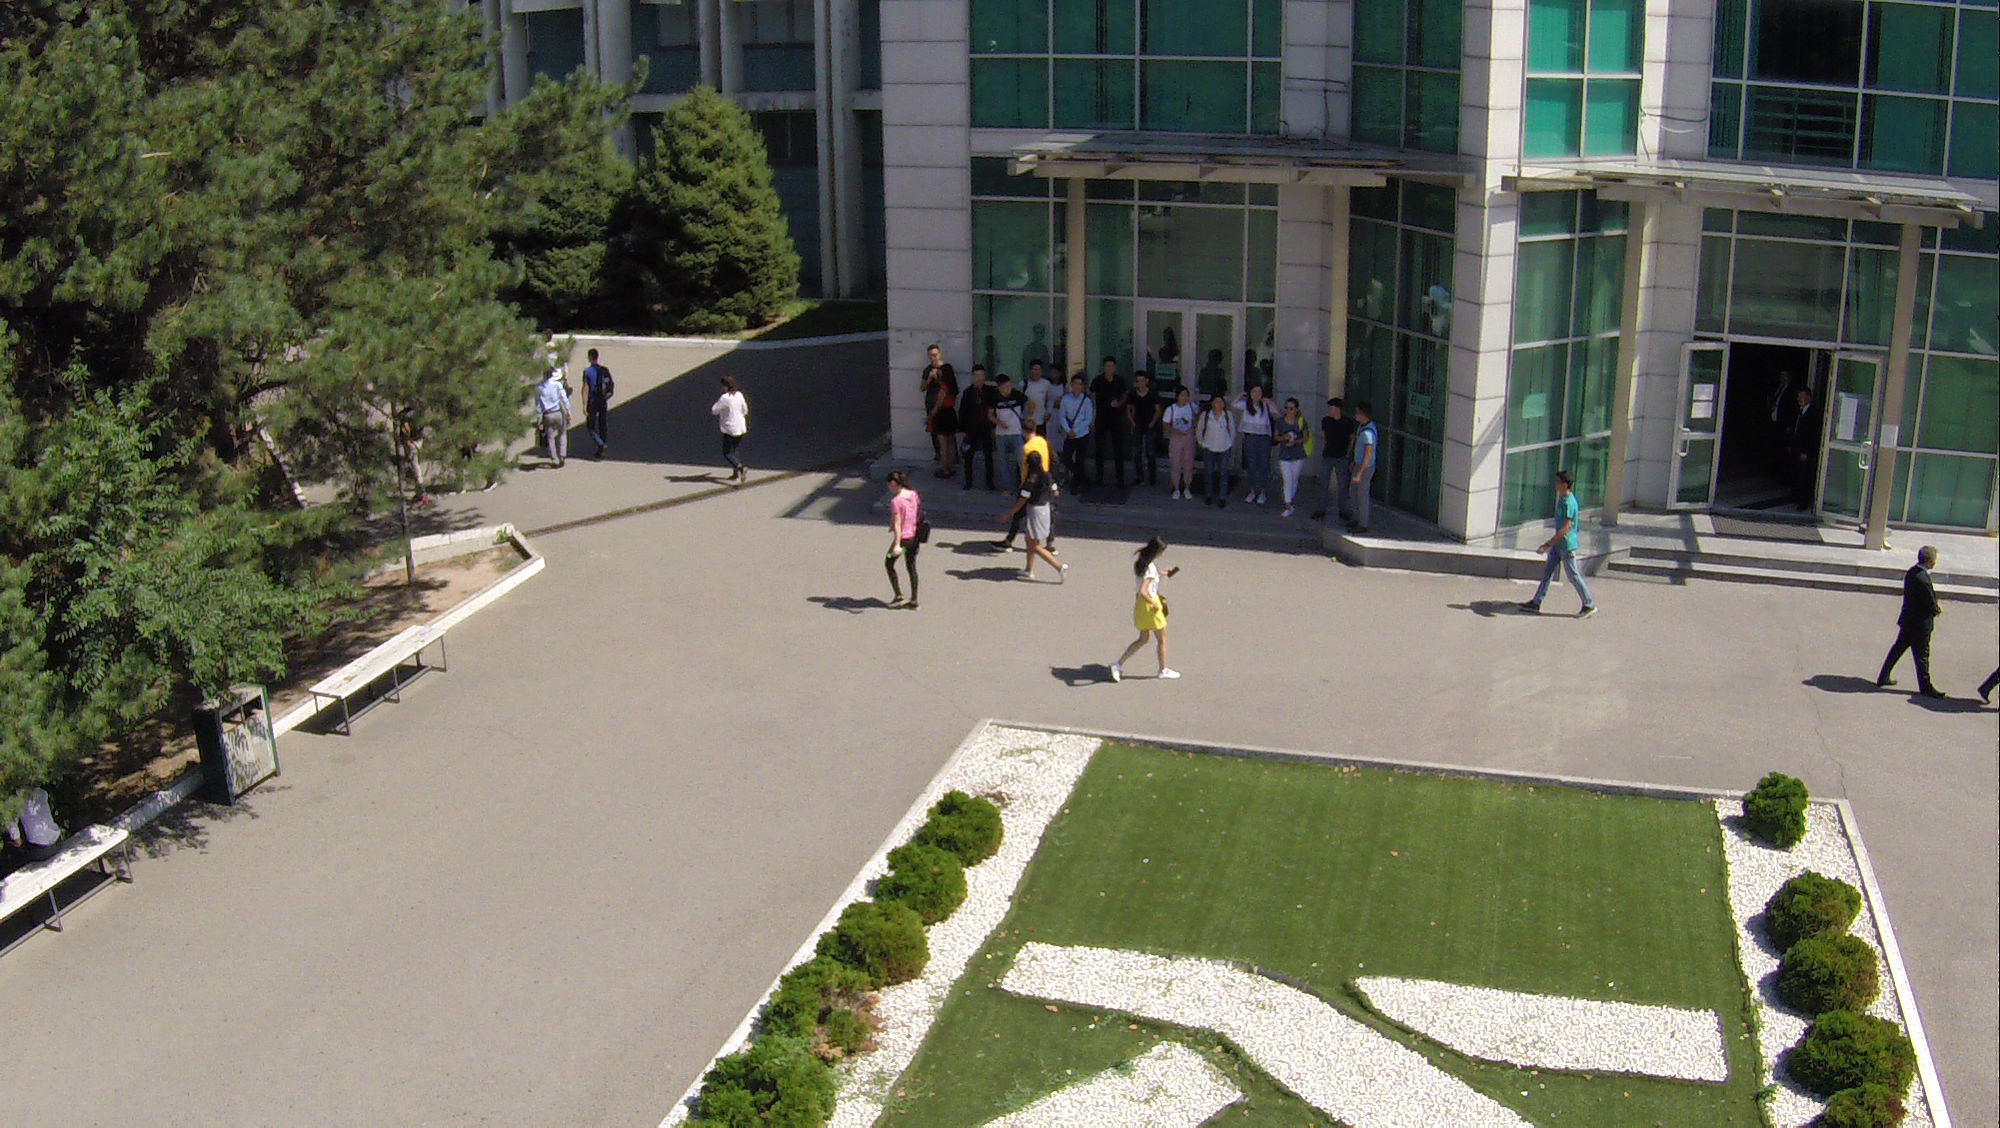person: (1872, 543, 1948, 701), (1527, 469, 1595, 621), (1109, 540, 1176, 689), (872, 475, 925, 615), (959, 358, 999, 492), (1241, 384, 1280, 506), (713, 371, 755, 483), (1352, 401, 1388, 535), (1016, 456, 1052, 582), (1277, 397, 1313, 524), (984, 377, 1022, 491), (1318, 397, 1351, 525), (1161, 389, 1197, 505), (920, 342, 955, 457), (928, 365, 960, 480), (1098, 358, 1127, 482), (1202, 391, 1232, 509), (582, 343, 613, 459), (1060, 383, 1090, 497), (1130, 372, 1160, 487), (538, 367, 564, 471), (1023, 360, 1051, 434)
